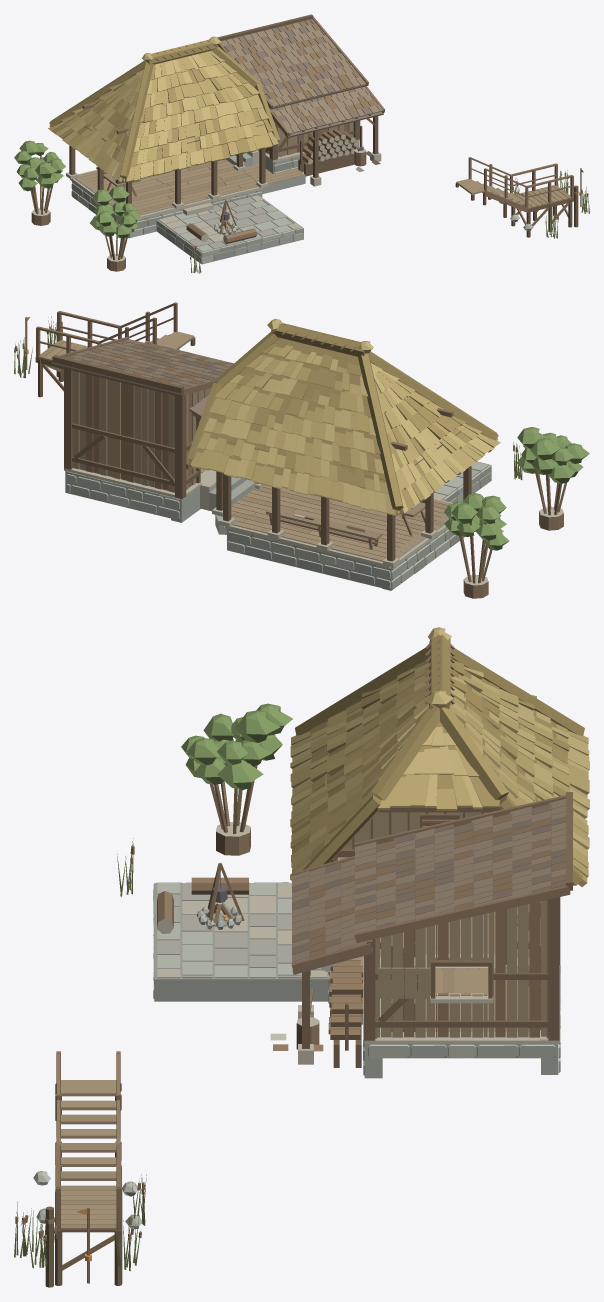
Rendered from survival.glb.
3 renders of one model, top to bottom at view 1: azimuth 30°, elevation 25°; view 2: azimuth 150°, elevation 25°; view 3: azimuth 270°, elevation 25°, orthographic. The views are drawn at different scales.
Visible parts, largest first — view 1: Survival_RoofThatch, Survival_RoofStore, Survival_Coppice, Survival_FloorYard, Survival_FloorCanopy, Survival_JettyFrame, Survival_ServiceLogPile_Stack, Survival_PlinthCanopy, Survival_PlinthYard, Survival_FrameCanopy, Survival_ShellStore, Survival_FloorPorch (+7 smaller); view 2: Survival_RoofThatch, Survival_ShellStore, Survival_Coppice, Survival_FloorCanopy, Survival_PlinthCanopy, Survival_RoofStore, Survival_ShellStoreBase, Survival_FrameCanopy, Survival_JettyFrame, Survival_FurnishingCanopy, Survival_StepLink, Survival_FloorYard (+4 smaller); view 3: Survival_RoofThatch, Survival_RoofStore, Survival_ShellStore, Survival_FloorYard, Survival_Coppice, Survival_ShellStoreBase, Survival_JettyFrame, Survival_ServiceLogPile_Stack, Survival_StepBank, Survival_DeckJetty, Survival_FloorStore, Survival_ServiceFirePit_Ring (+5 smaller).
Part boxes in pixels (bbox=[...]): Survival_RoofThatch: bbox=[48, 36, 280, 182]; Survival_RoofStore: bbox=[217, 14, 385, 137]; Survival_Coppice: bbox=[14, 140, 141, 271]; Survival_FloorYard: bbox=[156, 195, 303, 264]; Survival_FloorCanopy: bbox=[75, 159, 258, 219]; Survival_JettyFrame: bbox=[455, 157, 578, 237]; Survival_ServiceLogPile_Stack: bbox=[298, 126, 380, 176]; Survival_PlinthCanopy: bbox=[70, 169, 263, 238]; Survival_PlinthYard: bbox=[156, 220, 303, 263]; Survival_FrameCanopy: bbox=[66, 124, 268, 208]; Survival_ShellStore: bbox=[265, 120, 360, 161]; Survival_FloorPorch: bbox=[242, 164, 305, 194]; Survival_RoofThatch: bbox=[187, 319, 500, 516]; Survival_ShellStore: bbox=[64, 366, 211, 498]; Survival_Coppice: bbox=[444, 427, 589, 598]; Survival_FloorCanopy: bbox=[222, 485, 451, 570]; Survival_PlinthCanopy: bbox=[215, 498, 464, 590]; Survival_RoofStore: bbox=[52, 337, 233, 395]; Survival_ShellStoreBase: bbox=[64, 468, 201, 522]; Survival_FrameCanopy: bbox=[212, 431, 471, 567]; Survival_JettyFrame: bbox=[35, 302, 195, 397]; Survival_FurnishingCanopy: bbox=[266, 500, 425, 549]; Survival_StepLink: bbox=[200, 473, 256, 511]; Survival_FloorYard: bbox=[433, 462, 491, 501]; Survival_RoofThatch: bbox=[290, 627, 589, 886]; Survival_RoofStore: bbox=[291, 792, 572, 974]; Survival_ShellStore: bbox=[364, 897, 560, 1042]; Survival_FloorYard: bbox=[154, 883, 328, 1001]; Survival_Coppice: bbox=[181, 695, 536, 855]; Survival_ShellStoreBase: bbox=[363, 957, 560, 1078]; Survival_JettyFrame: bbox=[33, 1051, 141, 1287]; Survival_ServiceLogPile_Stack: bbox=[270, 960, 363, 1067]; Survival_StepBank: bbox=[60, 1100, 116, 1180]; Survival_DeckJetty: bbox=[61, 1185, 116, 1232]; Survival_FloorStore: bbox=[425, 960, 529, 1031]; Survival_ServiceFirePit_Ring: bbox=[196, 862, 244, 929].
Bounding box in the file's own units: 23.47 × 8.78 × 13.12.
